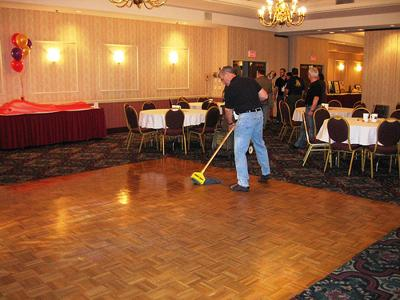person: (218, 65, 274, 194)
